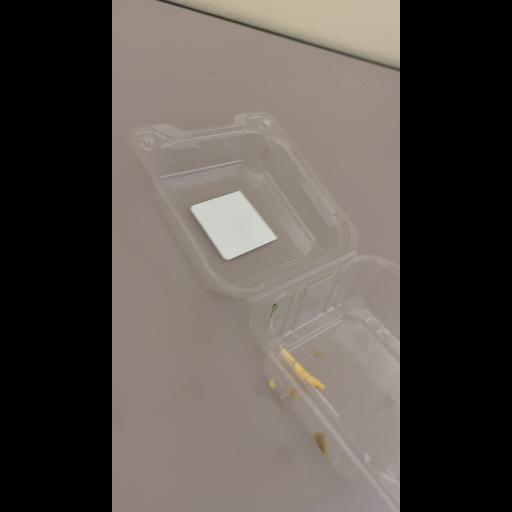small_plastic_container: (130, 121, 400, 495)
